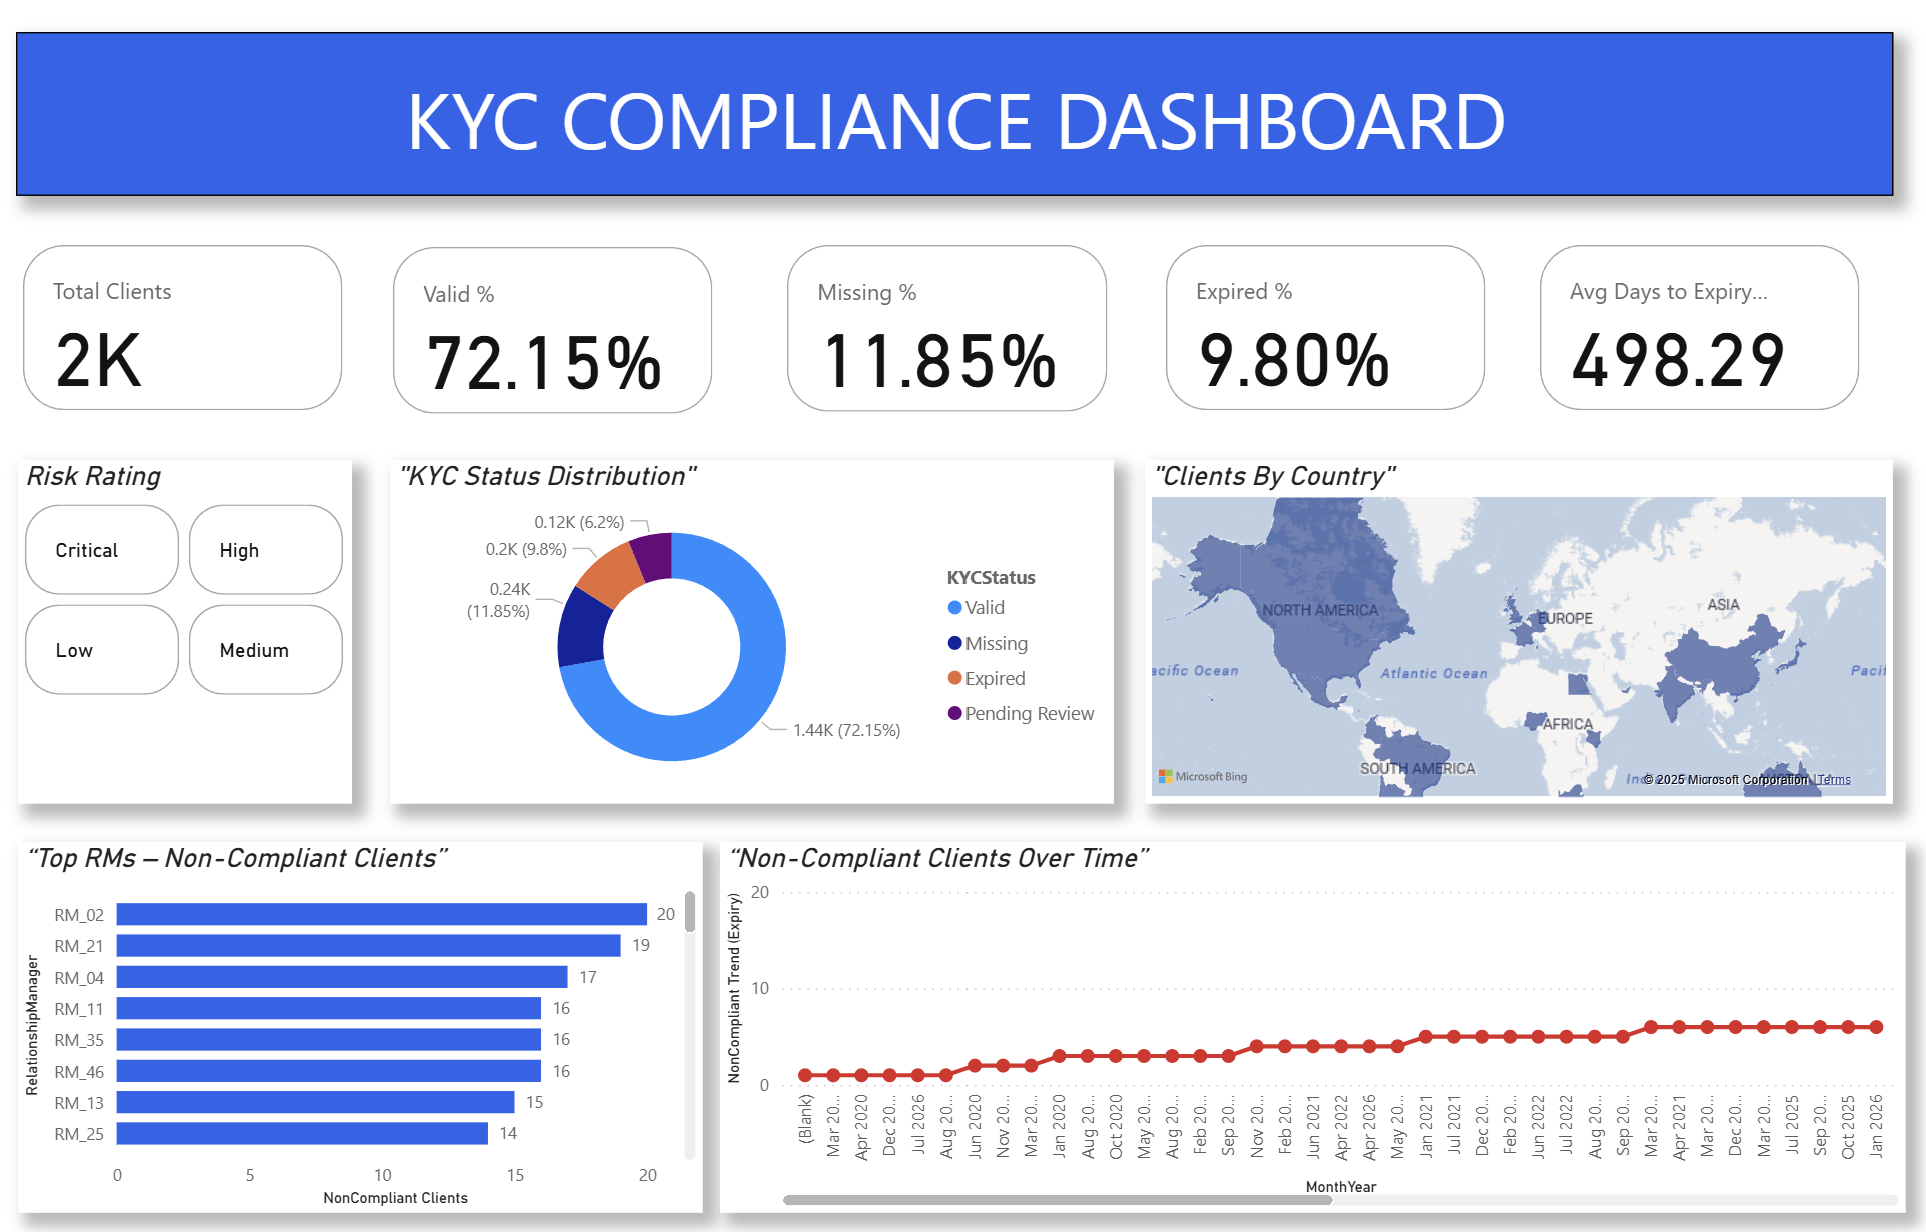

The page's visual inventory and layout, read from the dashboard file:
{"tool":"powerbi","page":{"name":"Page 1","canvas":[1400,900],"ordinal":0},"visuals":[{"type":"cardVisual","fields":{"Data":["DateTable.Total Clients"]},"box":[21.3,183.4,240.7,129.4],"z":0},{"type":"clusteredBarChart","title":"“Top RMs – Non-Compliant Clients”","fields":{"Y":["DateTable.NonCompliant Clients"],"Category":["Table 1 (Sheet1).RelationshipManager"]},"box":[22.9,617.3,492.9,266.9],"z":1000},{"type":"lineChart","title":"“Non-Compliant Clients Over Time”","fields":{"Category":["DateTable.MonthYear"],"Y":["DateTable.NonCompliant Trend (Expiry)"]},"box":[528.9,617.3,853.1,266.9],"z":2000},{"type":"filledMap","title":"\"Clients By Country\"","fields":{"Category":["Table 1 (Sheet1).Country"]},"box":[833.5,342.2,538.7,247.3],"z":3000},{"type":"cardVisual","fields":{"Data":["DateTable.Valid %"]},"box":[288.2,185,240.7,130],"z":4000},{"type":"cardVisual","fields":{"Data":["DateTable.Missing %"]},"box":[571.5,183.4,240.7,130],"z":5000},{"type":"cardVisual","fields":{"Data":["DateTable.Expired %"]},"box":[843.3,183.4,240.7,129.4],"z":6000},{"type":"cardVisual","fields":{"Data":["DateTable.Avg Days to Expiry (Absolute)"]},"box":[1113.5,183.4,240.7,129.4],"z":7000},{"type":"donutChart","title":"\"KYC Status Distribution\"","fields":{"Category":["Table 1 (Sheet1).KYCStatus"],"Y":["Count(Table 1 (Sheet1).ClientID)"]},"box":[291.5,342.2,520.7,247.3],"z":7001},{"type":"FlowVisual_C29F1DCC_81F5_4973_94AD_0517D44CC06A","box":[21,0,241,150],"z":7002},{"type":"textbox","box":[21.3,34.4,1350.9,117.9],"z":7003},{"type":"advancedSlicerVisual","title":"Risk Rating","fields":{"Values":["Table 1 (Sheet1).RiskRating"]},"box":[22.9,342.2,240.7,247.3],"z":7004}]}

Visuals, with their boxes in screenshot pixels (x1, y1, x2, y2), scaled from the page's 1400x900 canvas onto the 1926x1232 screenshot:
cardVisual - DateTable.Total Clients: [left=29, top=251, right=360, bottom=428]
"“Top RMs – Non-Compliant Clients”" clusteredBarChart: [left=32, top=845, right=710, bottom=1210]
"“Non-Compliant Clients Over Time”" lineChart: [left=728, top=845, right=1901, bottom=1210]
""Clients By Country"" filledMap: [left=1147, top=468, right=1888, bottom=807]
cardVisual - DateTable.Valid %: [left=396, top=253, right=728, bottom=431]
cardVisual - DateTable.Missing %: [left=786, top=251, right=1117, bottom=429]
cardVisual - DateTable.Expired %: [left=1160, top=251, right=1491, bottom=428]
cardVisual - DateTable.Avg Days to Expiry (Absolute): [left=1532, top=251, right=1863, bottom=428]
""KYC Status Distribution"" donutChart: [left=401, top=468, right=1117, bottom=807]
FlowVisual_C29F1DCC_81F5_4973_94AD_0517D44CC06A: [left=29, top=0, right=360, bottom=205]
textbox: [left=29, top=47, right=1888, bottom=208]
"Risk Rating" advancedSlicerVisual: [left=32, top=468, right=363, bottom=807]
